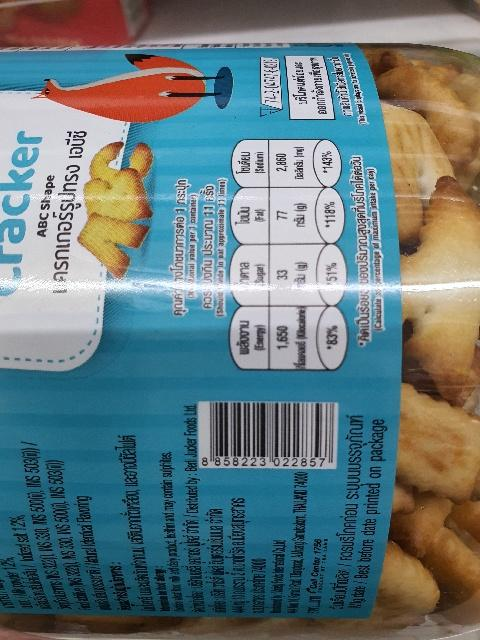Barcode: (197, 400, 339, 471)
